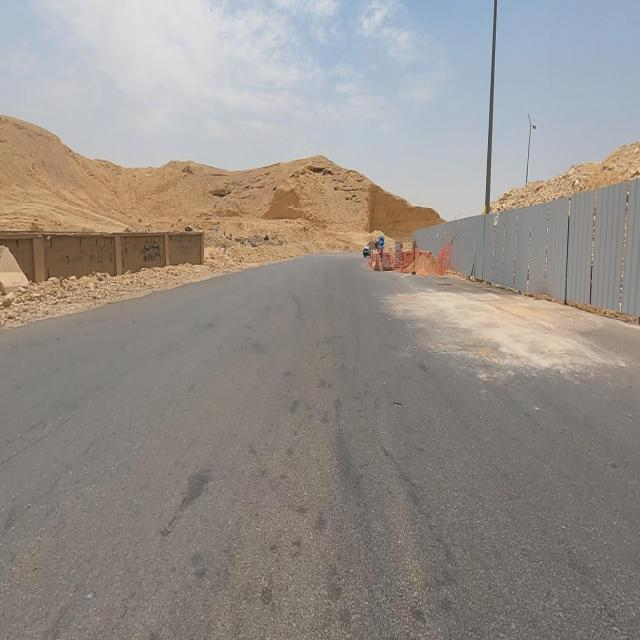Graffiti: (64, 247, 104, 270), (144, 239, 162, 264), (179, 238, 200, 255)
